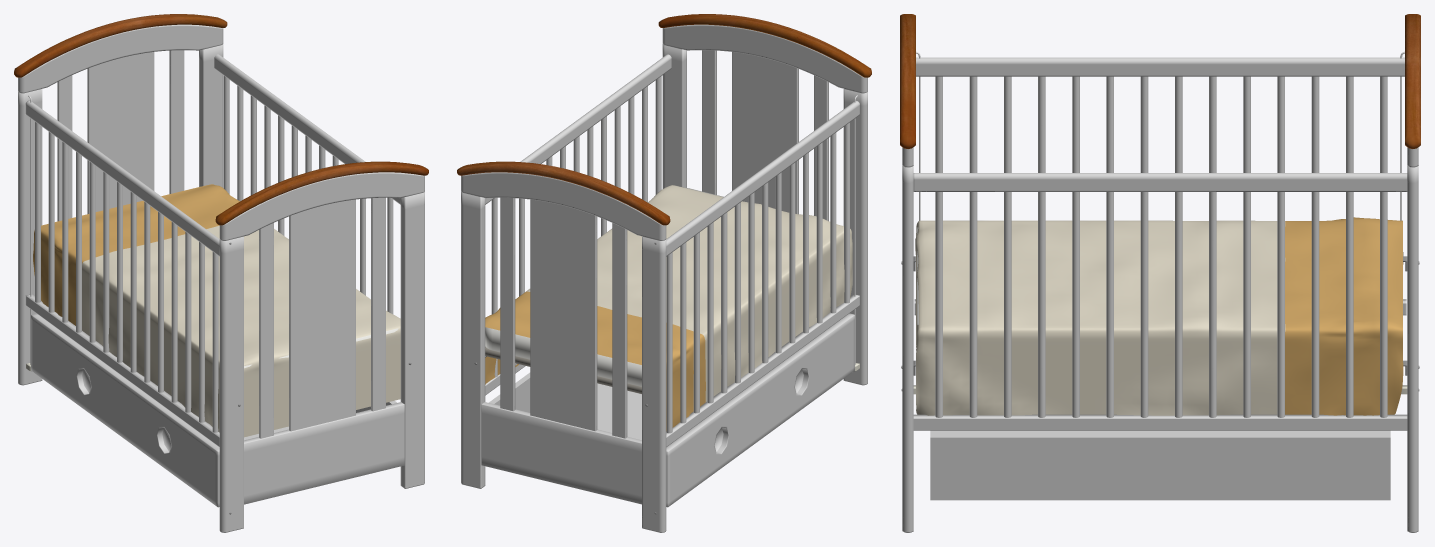
Rendered from baby_crib.glb.
The picture shows the model from 3 angles, left to right: view 1: azimuth 30°, elevation 25°; view 2: azimuth 150°, elevation 25°; view 3: azimuth 270°, elevation 25°; orthographic projection. The views are drawn at different scales.
Visible parts, largest first — view 1: crib; view 2: crib; view 3: crib.
Part boxes in pixels (x1,y1,x2,y2): crib: [14, 14, 428, 532]; crib: [457, 14, 871, 532]; crib: [900, 14, 1420, 532].
Bounding box in the file's own units: 0.728 × 1.11 × 1.24.
10 materials, 2 textured.
